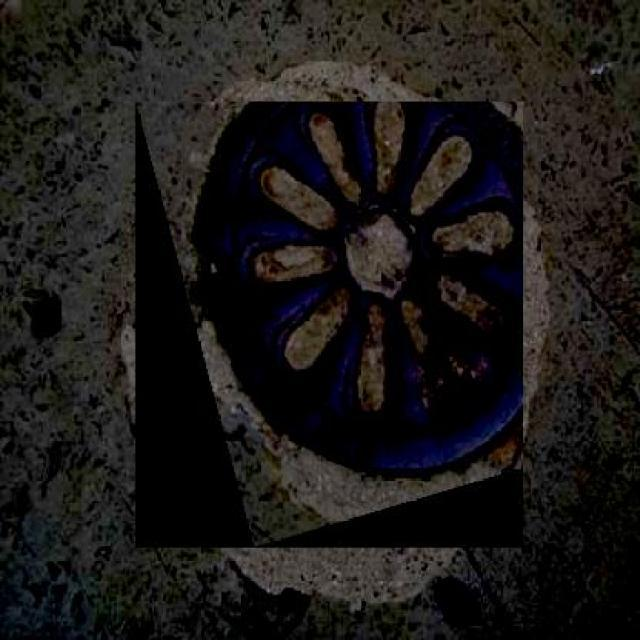Manhole: (136, 101, 524, 548)
